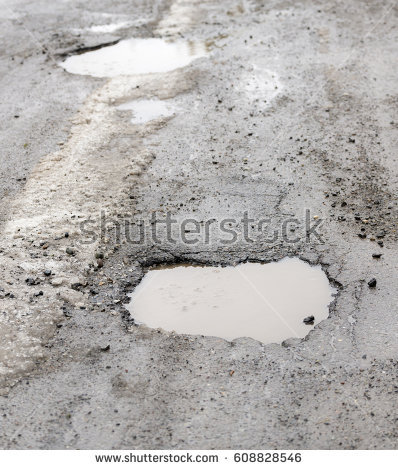pothole: (99, 235, 376, 373), (32, 18, 234, 104)
